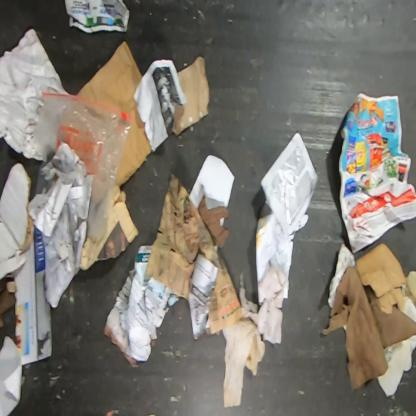cardboard: (320, 242, 415, 393), (75, 39, 152, 187), (0, 162, 35, 280), (172, 56, 210, 137)
soft_plastic: (33, 90, 134, 242)
